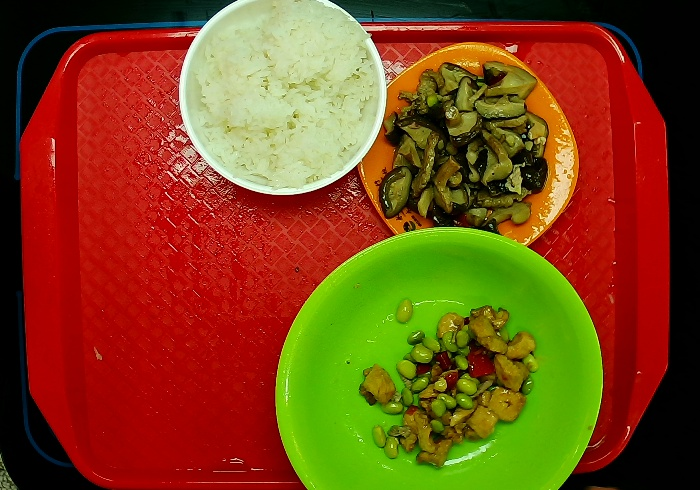YKMZ-Fan_Wan: (174, 1, 388, 200)
YKMZ-Ju_Se_Fang_Die: (353, 38, 582, 249)
YKMZ-Lv_Se_Tang_Wan: (272, 225, 607, 490)
